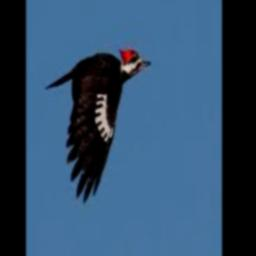Woodpecker: (45, 48, 149, 202)
